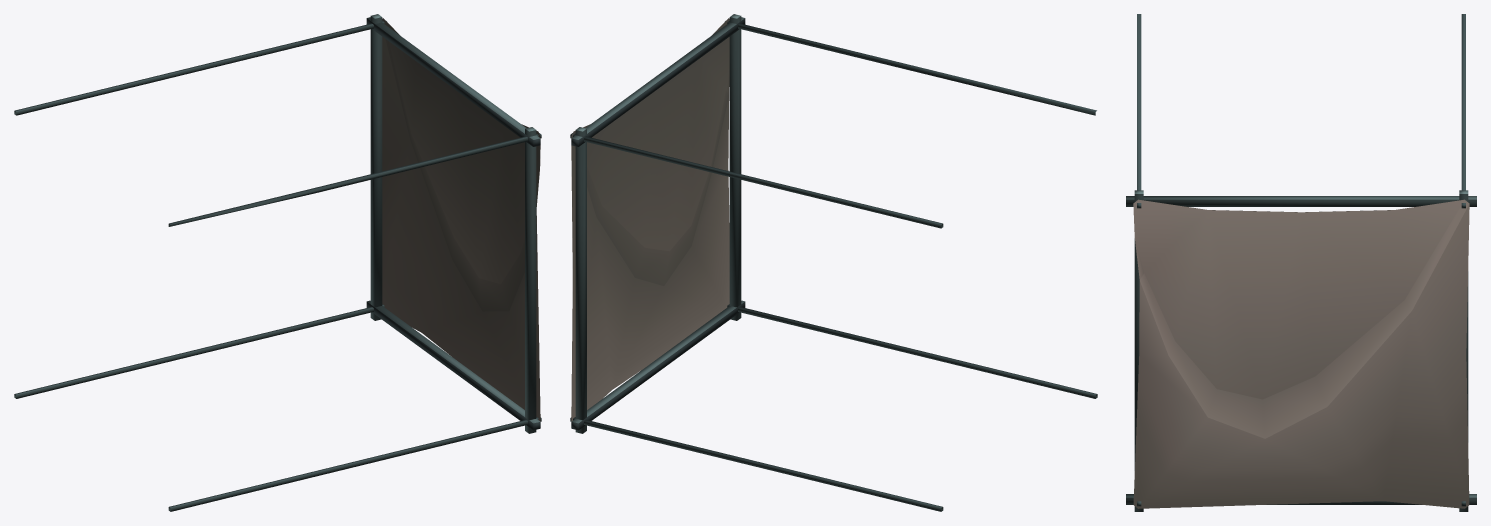
Rendered from Safety_Net_1B.fbx.
3 views of the same model, side by side, from view 1: azimuth 30°, elevation 25°; view 2: azimuth 150°, elevation 25°; view 3: azimuth 270°, elevation 25° (orthographic). The views are drawn at different scales.
Parts seen in each view (by area): view 1: Safety_Net_1B; view 2: Safety_Net_1B; view 3: Safety_Net_1B.
Part boxes in pixels (box(x1,y1,x2,y2)): Safety_Net_1B: box(14, 14, 541, 511); Safety_Net_1B: box(570, 14, 1097, 511); Safety_Net_1B: box(1126, 14, 1476, 511).
Size of the model in its own units: 516 by 400 by 400.
